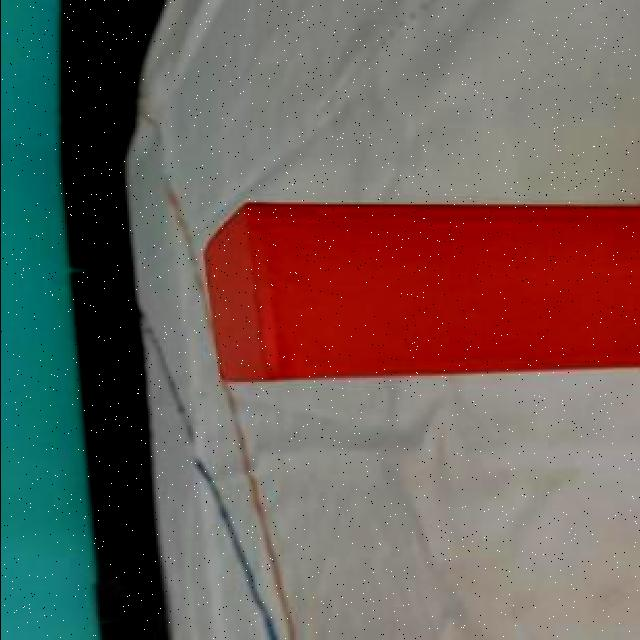redbox: (198, 198, 640, 384)
